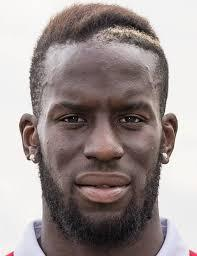No Mask: (31, 27, 175, 248)
